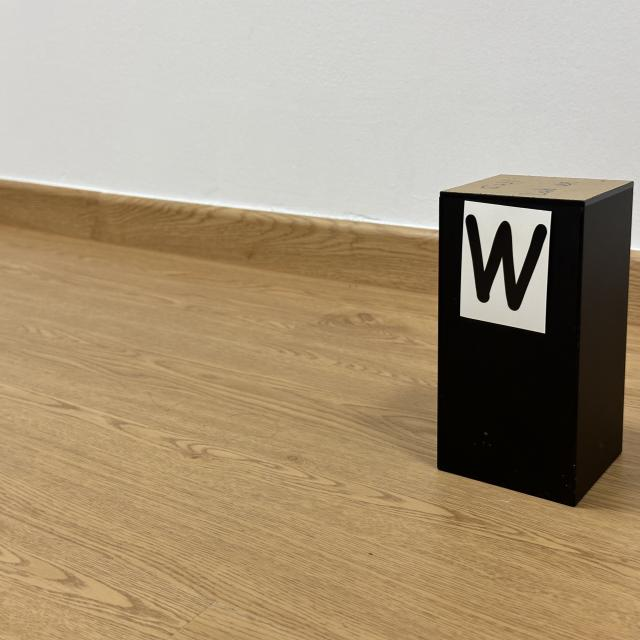W: (465, 215, 548, 310)
